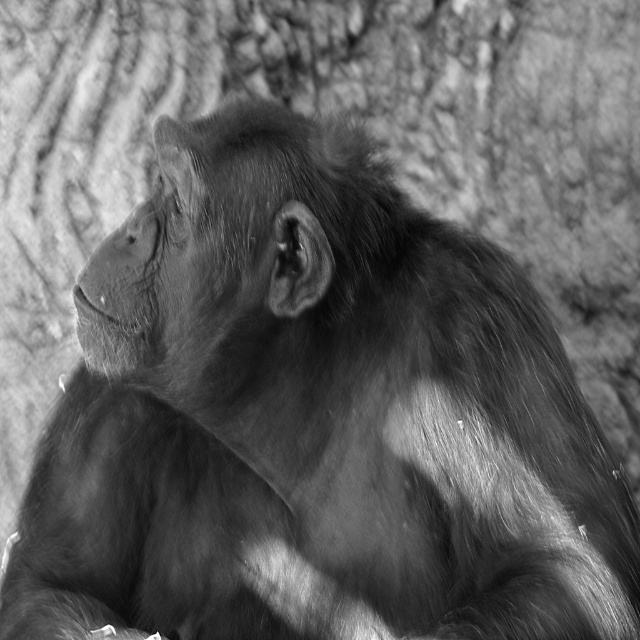Monkey: (0, 93, 638, 639)
